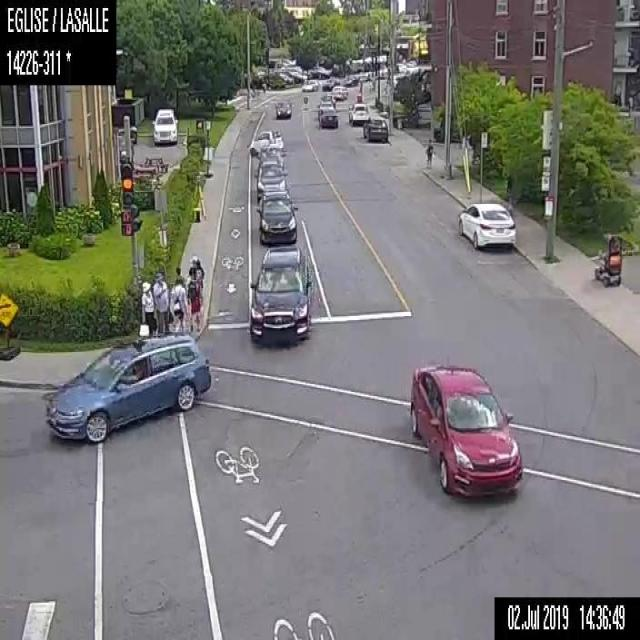pedestrian: (594, 232, 621, 287), (168, 276, 189, 335), (186, 266, 204, 332), (152, 271, 169, 338), (137, 280, 153, 336), (188, 254, 205, 282), (171, 265, 188, 291), (424, 138, 434, 170)
vehicle: (44, 331, 211, 444), (407, 363, 523, 496), (246, 244, 312, 343), (456, 200, 514, 251), (253, 190, 299, 246), (254, 160, 288, 198), (248, 126, 284, 157), (151, 106, 178, 145), (363, 113, 388, 141), (318, 105, 338, 128), (348, 101, 368, 124), (274, 96, 292, 117), (308, 65, 332, 77), (332, 83, 348, 99), (318, 91, 334, 106), (276, 71, 293, 84), (301, 78, 319, 90), (342, 73, 358, 85), (322, 77, 340, 87)
